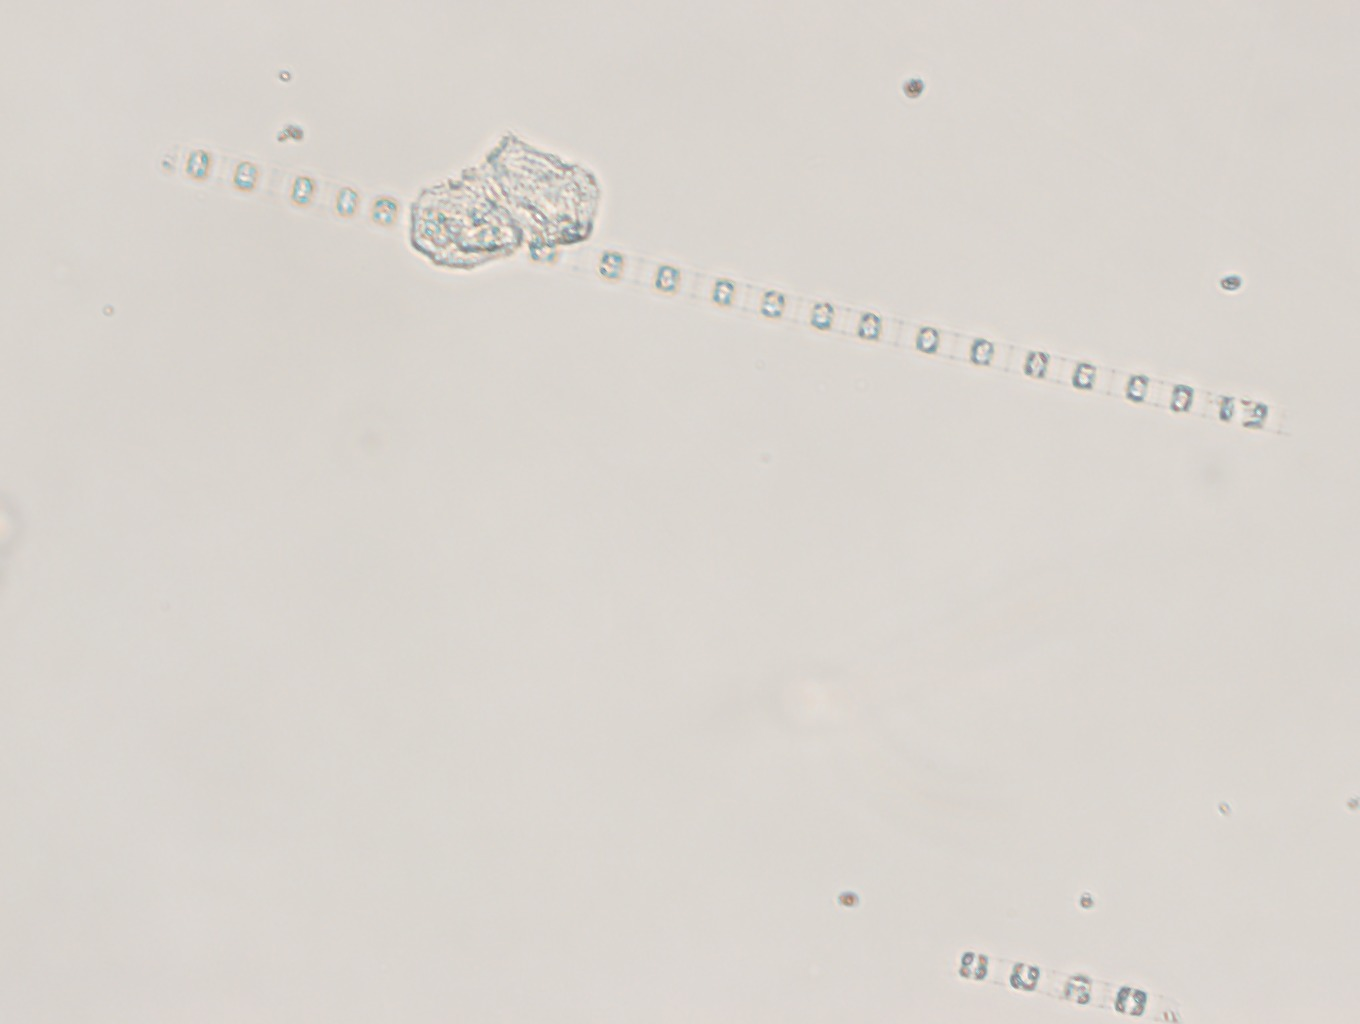skeletonema: (151, 123, 1284, 443), (947, 927, 1190, 1024)
